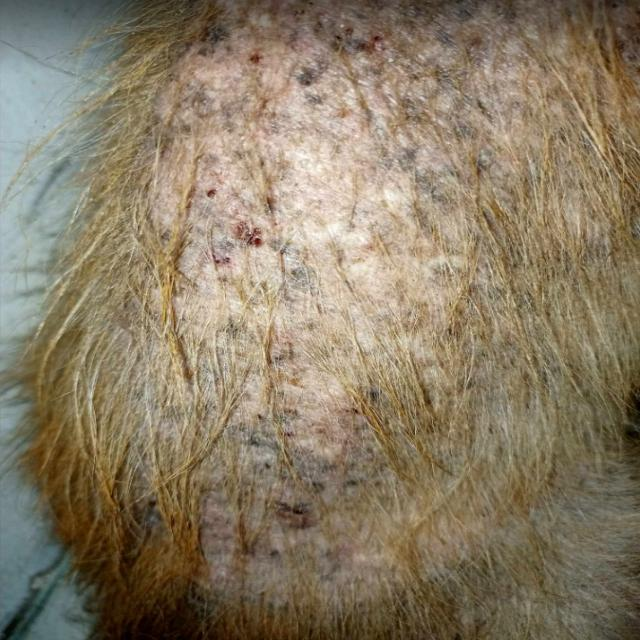demodicosis: (145, 47, 524, 404)
